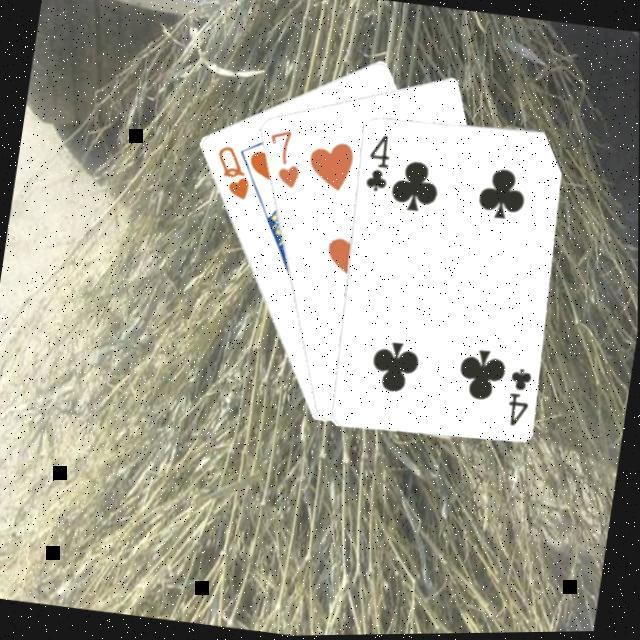4C: (499, 364, 536, 431), (360, 130, 395, 194)
7H: (258, 123, 308, 193)
QH: (206, 140, 258, 204)
